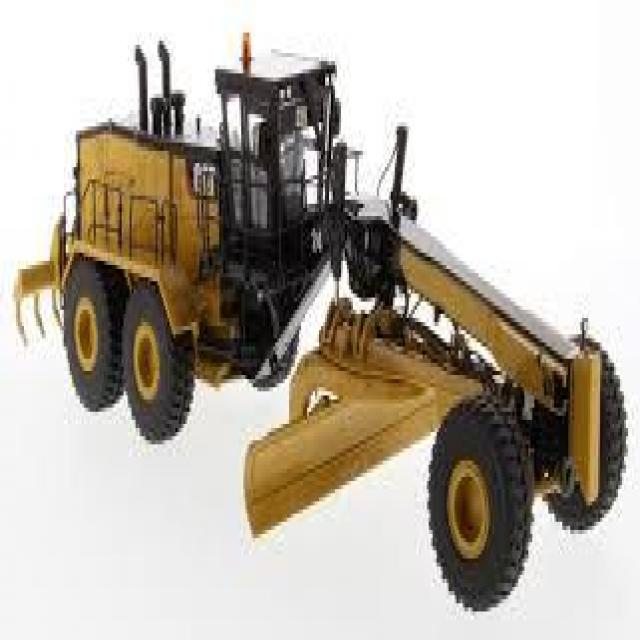Grader: (10, 24, 638, 632)
